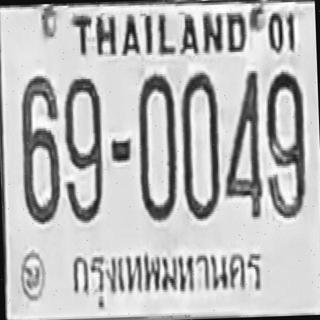N00: (135, 71, 178, 220), (180, 70, 221, 219)
N04: (220, 67, 263, 219)
N06: (19, 74, 62, 222)
N09: (263, 69, 307, 218), (61, 75, 104, 222)
P04: (62, 233, 271, 313)
